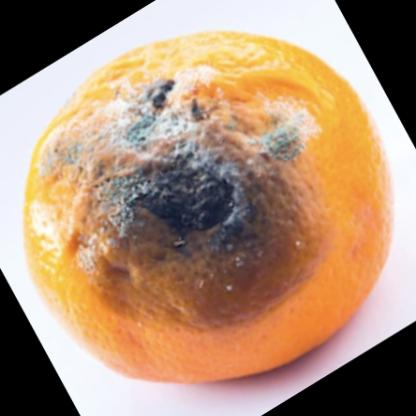rotten: (23, 29, 394, 387)
